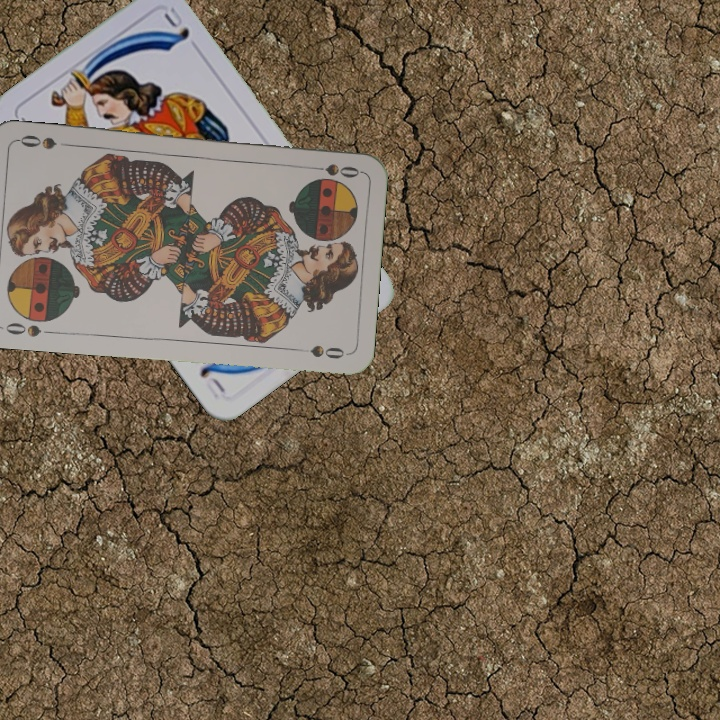SO: (2, 318, 59, 340), (303, 160, 362, 181)
